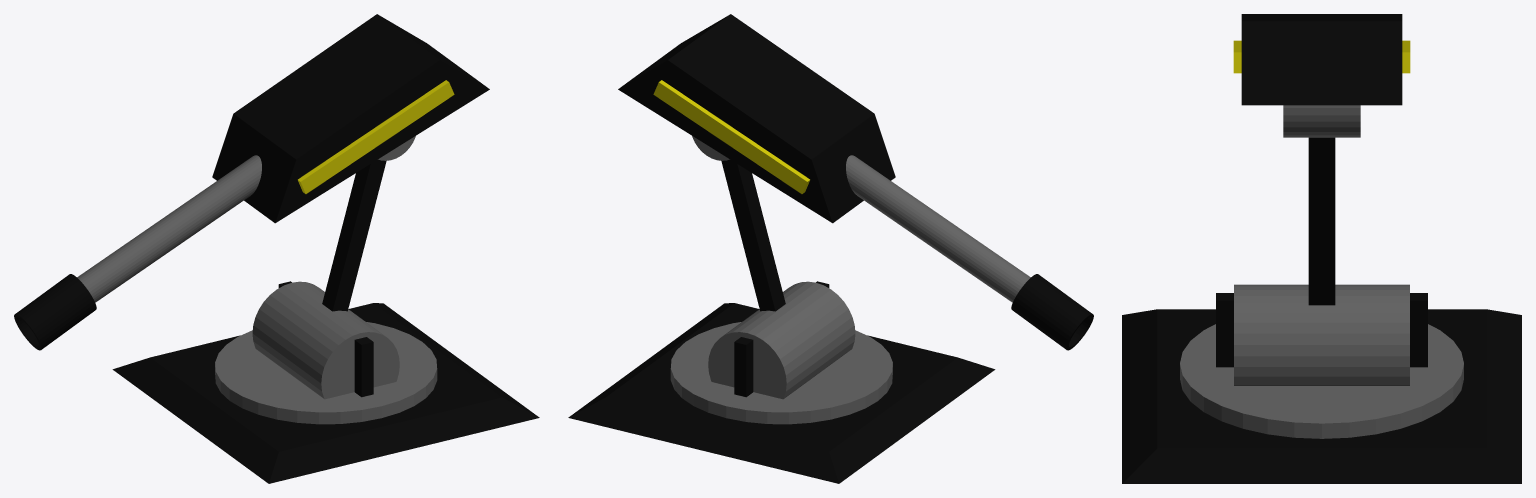
The model's file is Torre Lv1.obj.
3 renders of one model, left to right at view 1: azimuth 30°, elevation 25°; view 2: azimuth 150°, elevation 25°; view 3: azimuth 270°, elevation 25°, orthographic. The views are drawn at different scales.
Parts seen in each view (by area): view 1: Cubo.003, Cube, Cilindro, Cilindro.001, Cilindro.003, Cubo.002, Cilindro.004, Cubo.004, Cubo.001; view 2: Cubo.003, Cube, Cilindro, Cilindro.001, Cilindro.003, Cubo.002, Cilindro.004, Cubo.004, Cubo; view 3: Cube, Cilindro.001, Cilindro, Cubo.003, Cubo.002, Cilindro.002, Cubo, Cubo.001, Cubo.004.
Part boxes in pixels (left/top/right/bottom): Cubo.003: left=212, top=14, right=489, bottom=223; Cube: left=112, top=303, right=539, bottom=483; Cilindro: left=215, top=322, right=437, bottom=424; Cilindro.001: left=252, top=281, right=399, bottom=399; Cilindro.003: left=77, top=155, right=261, bottom=302; Cubo.002: left=322, top=159, right=386, bottom=311; Cilindro.004: left=14, top=274, right=96, bottom=350; Cubo.004: left=298, top=80, right=454, bottom=193; Cubo.001: left=354, top=337, right=373, bottom=397; Cubo.003: left=618, top=14, right=895, bottom=223; Cube: left=568, top=303, right=995, bottom=483; Cilindro: left=670, top=322, right=892, bottom=424; Cilindro.001: left=708, top=281, right=855, bottom=399; Cilindro.003: left=846, top=155, right=1030, bottom=302; Cubo.002: left=721, top=159, right=785, bottom=311; Cilindro.004: left=1011, top=274, right=1093, bottom=350; Cubo.004: left=653, top=80, right=809, bottom=193; Cubo: left=734, top=337, right=753, bottom=397; Cube: left=1122, top=309, right=1521, bottom=483; Cilindro.001: left=1234, top=284, right=1409, bottom=385; Cilindro: left=1180, top=324, right=1463, bottom=438; Cubo.003: left=1241, top=14, right=1402, bottom=105; Cubo.002: left=1308, top=137, right=1335, bottom=305; Cilindro.002: left=1283, top=105, right=1360, bottom=137; Cubo: left=1410, top=293, right=1427, bottom=367; Cubo.001: left=1216, top=293, right=1233, bottom=367; Cubo.004: left=1233, top=40, right=1410, bottom=73.
Size of the model in its own units: 2.5 by 1.82 by 1.53.
